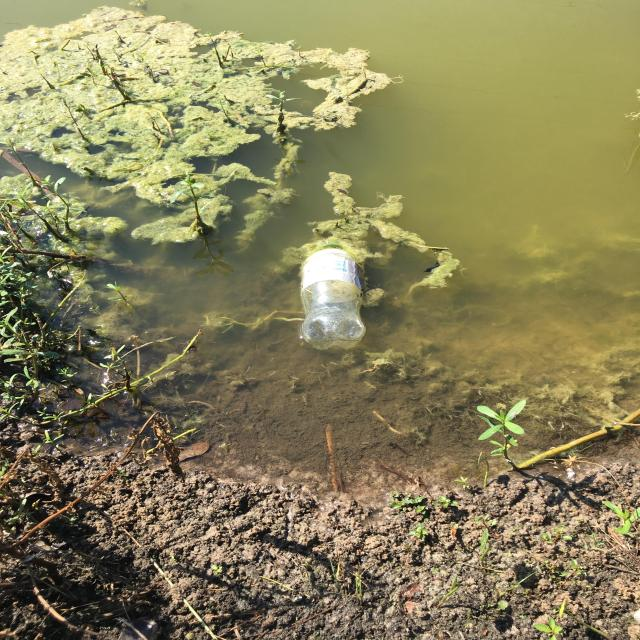litter: (304, 203, 472, 259)
